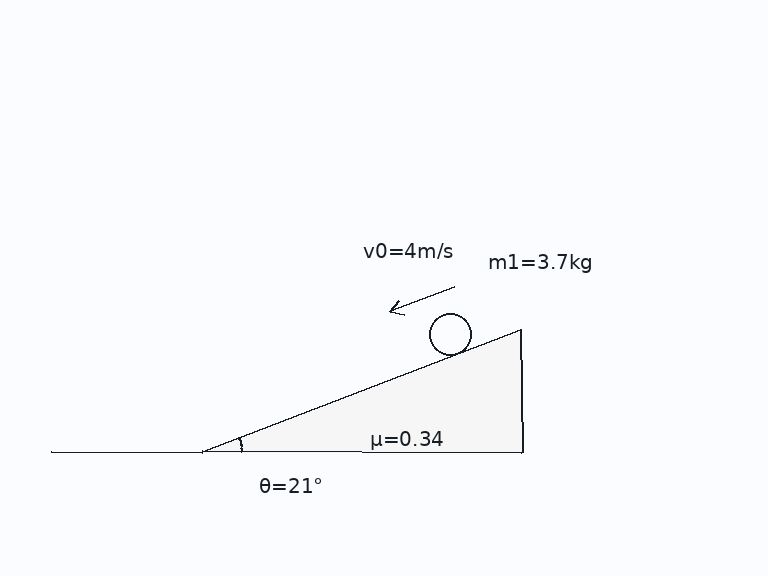ball: (427, 311, 473, 357)
ramp: (200, 327, 523, 454)
